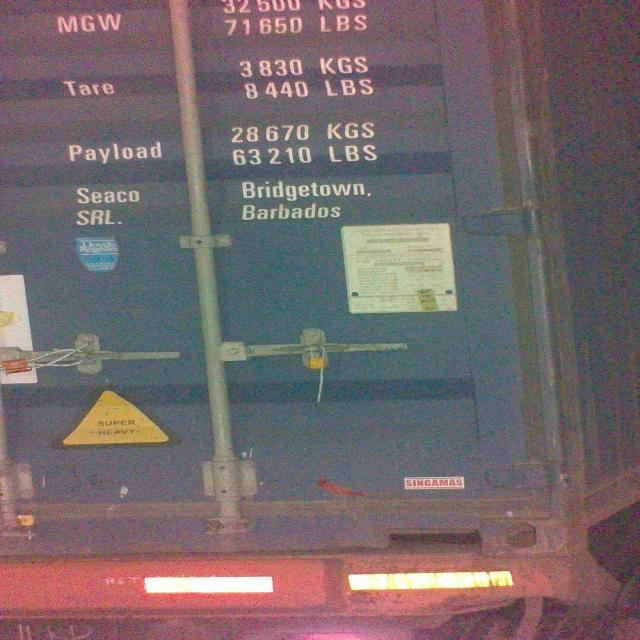seal: (306, 342, 331, 388), (17, 511, 44, 538)
